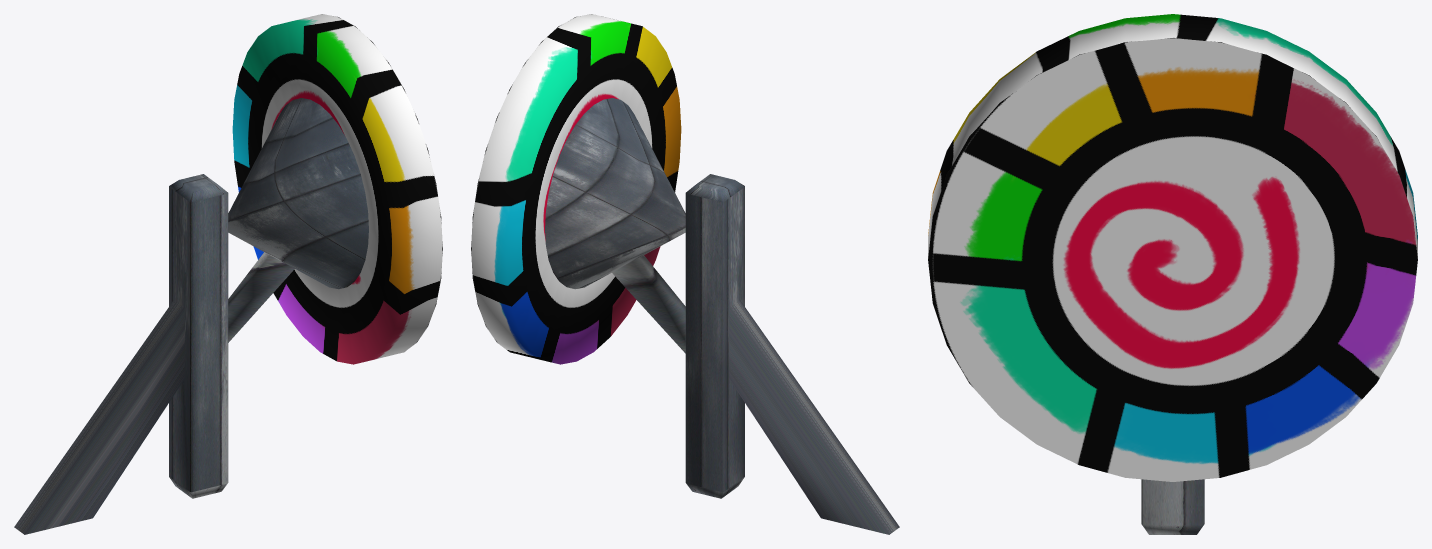
The model's file is TableTavern.glb.
The picture shows the model from 3 angles, left to right: view 1: azimuth 30°, elevation 25°; view 2: azimuth 150°, elevation 25°; view 3: azimuth 270°, elevation 25°; orthographic projection. The views are drawn at different scales.
Parts seen in each view (by area): view 1: Table.001, Cube, Tavern; view 2: Table.001, Cube, Tavern; view 3: Table, Table.001, Cube.
Part boxes in pixels (x1,y1,x2,y2): Table.001: [232, 14, 442, 364]; Cube: [14, 174, 228, 534]; Tavern: [228, 98, 368, 342]; Table.001: [471, 14, 681, 364]; Cube: [685, 174, 899, 534]; Tavern: [545, 98, 685, 353]; Table: [928, 38, 1417, 481]; Table.001: [928, 14, 1417, 258]; Cube: [1141, 479, 1204, 534].
Bounding box in the file's own units: 9.32 × 11.24 × 8.4.
Materials: 2 (2 with a texture image).
